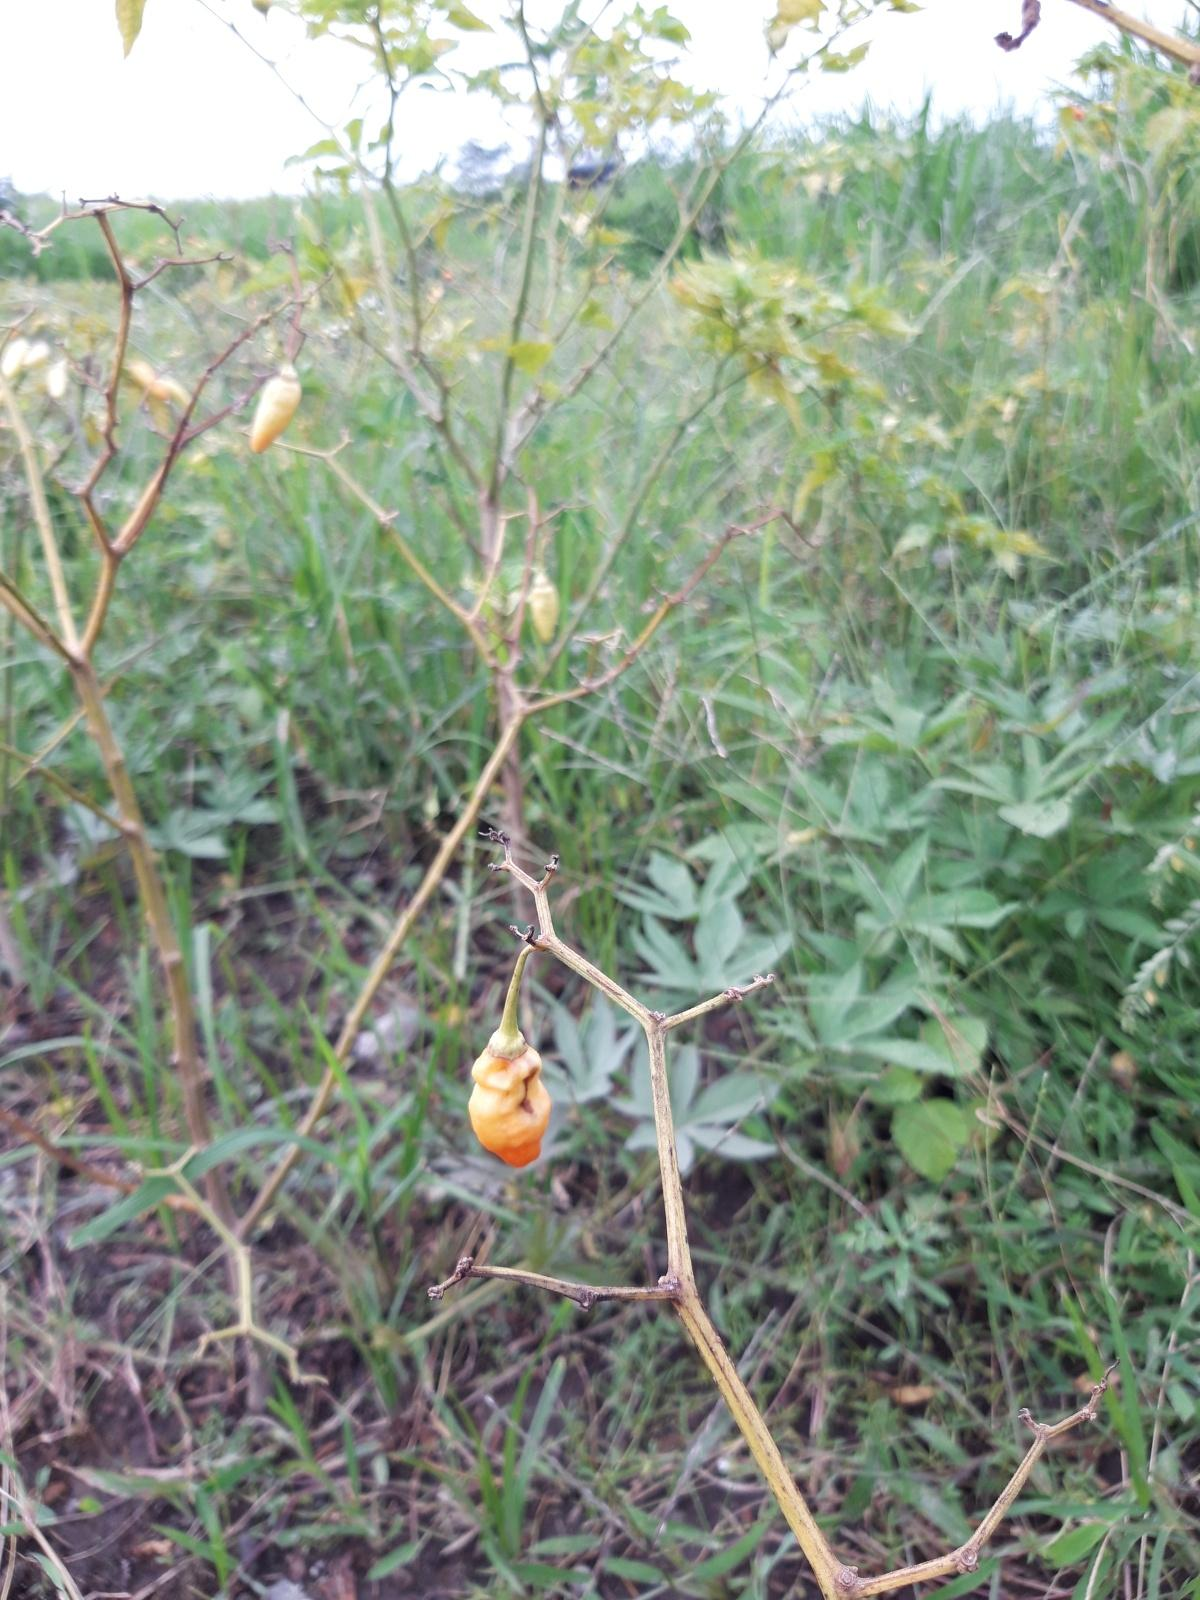cabai_normal: (247, 369, 305, 455), (531, 580, 561, 643)
lalat_buah: (466, 1033, 552, 1167)
